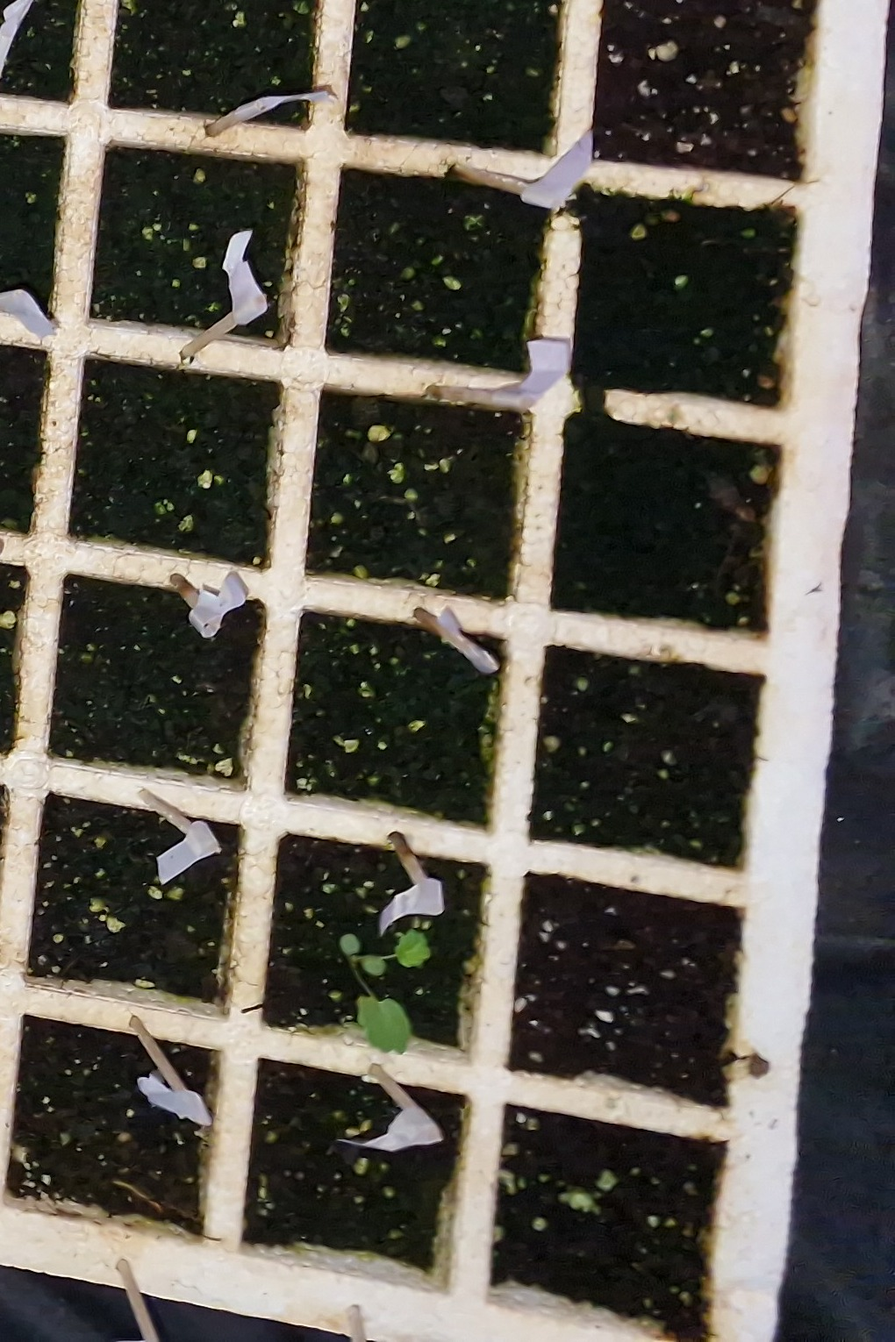Folha: (357, 996, 409, 1054), (395, 929, 430, 967), (361, 955, 385, 976), (341, 935, 360, 955)
Germinacao: (339, 929, 430, 1055)
